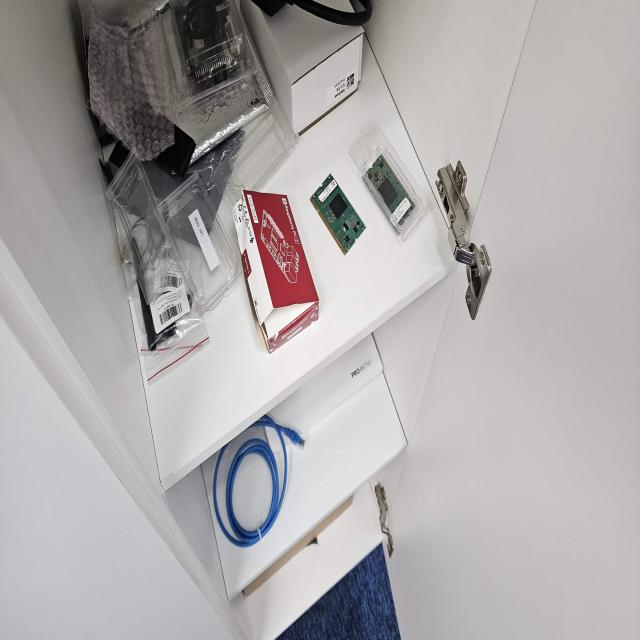som: (307, 175, 361, 257), (367, 152, 419, 232)
